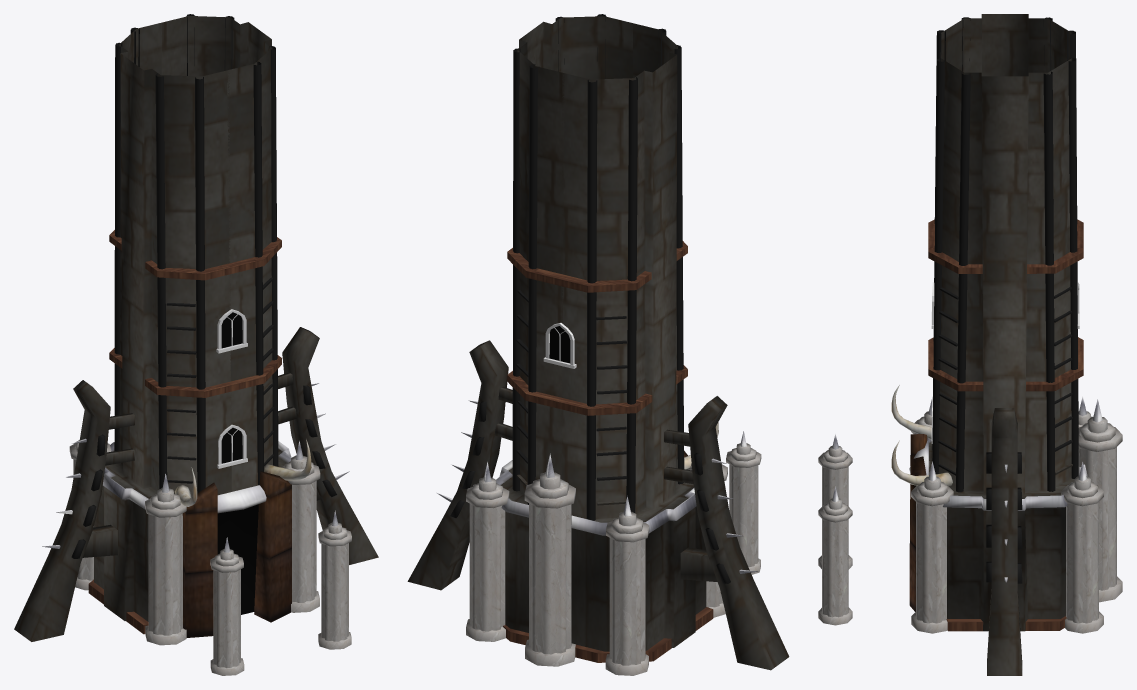
The model's file is Torreblend.fbx.
The picture shows the model from 3 angles, left to right: view 1: azimuth 30°, elevation 25°; view 2: azimuth 150°, elevation 25°; view 3: azimuth 270°, elevation 25°; orthographic projection. The views are drawn at different scales.
Visible parts, largest first — view 1: Torre, Pilar2, Pilar1, Pilar3; view 2: Torre, Pilar3, Pilar3.001, Pilar1, Pilar2; view 3: Torre, Pilar3, Pilar2, Pilar1, Pilar3.001.
Boxes of the visible parts, x1=… form: Torre: x1=14, y1=14, x2=378, y2=641; Pilar2: x1=145, y1=441, x2=320, y2=645; Pilar1: x1=210, y1=510, x2=351, y2=675; Pilar3: x1=69, y1=440, x2=111, y2=590; Torre: x1=407, y1=14, x2=789, y2=670; Pilar3: x1=466, y1=462, x2=649, y2=675; Pilar3.001: x1=524, y1=453, x2=575, y2=666; Pilar1: x1=726, y1=431, x2=761, y2=574; Pilar2: x1=686, y1=463, x2=727, y2=617; Torre: x1=891, y1=14, x2=1087, y2=675; Pilar3: x1=1061, y1=396, x2=1103, y2=633; Pilar2: x1=911, y1=396, x2=953, y2=633; Pilar1: x1=818, y1=434, x2=852, y2=625; Pilar3.001: x1=1078, y1=399, x2=1122, y2=602.
Bounding box in the file's own units: 3092 × 4661 × 2351.
